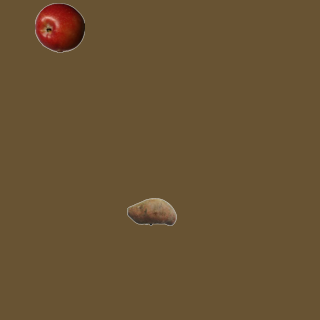Apple Braeburn: (34, 2, 84, 52)
Potato Sweet: (126, 186, 176, 236)
